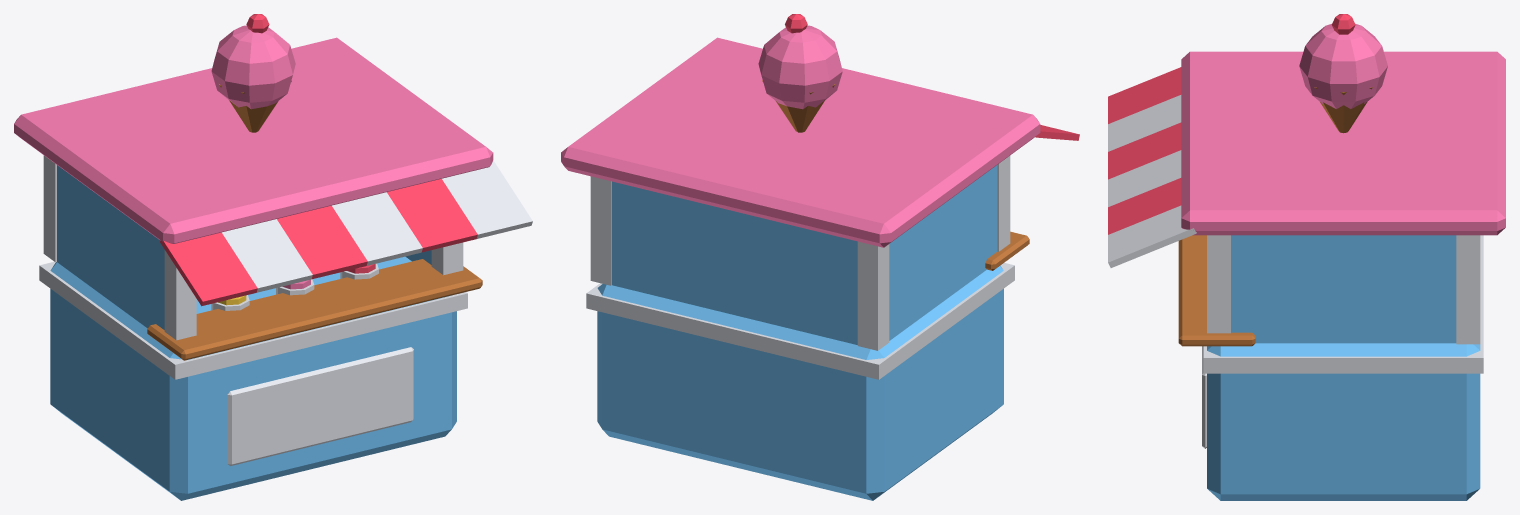
The model's file is kiosk.glb.
3 renders of one model, left to right at view 1: azimuth 30°, elevation 25°; view 2: azimuth 150°, elevation 25°; view 3: azimuth 270°, elevation 25°, orthographic. The views are drawn at different scales.
Parts seen in each view (by area): view 1: Kiosk; view 2: Kiosk; view 3: Kiosk.
Part boxes in pixels (box(x1,y1,x2,y2)): Kiosk: box(14, 14, 532, 500); Kiosk: box(561, 14, 1079, 500); Kiosk: box(1108, 14, 1505, 500).
Size of the model in its own units: 2.3 by 2.73 by 2.33.
